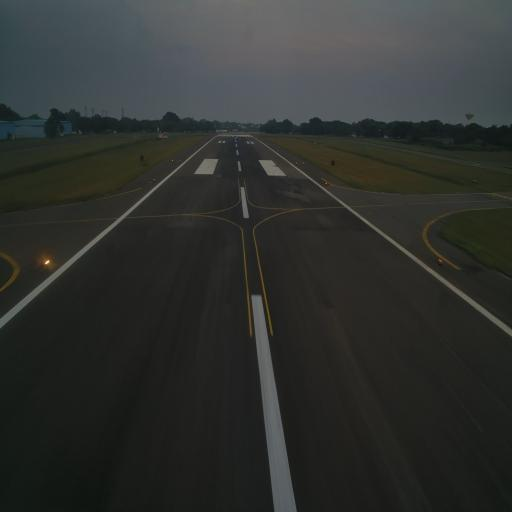on: (43, 256, 50, 269), (437, 255, 444, 267)
